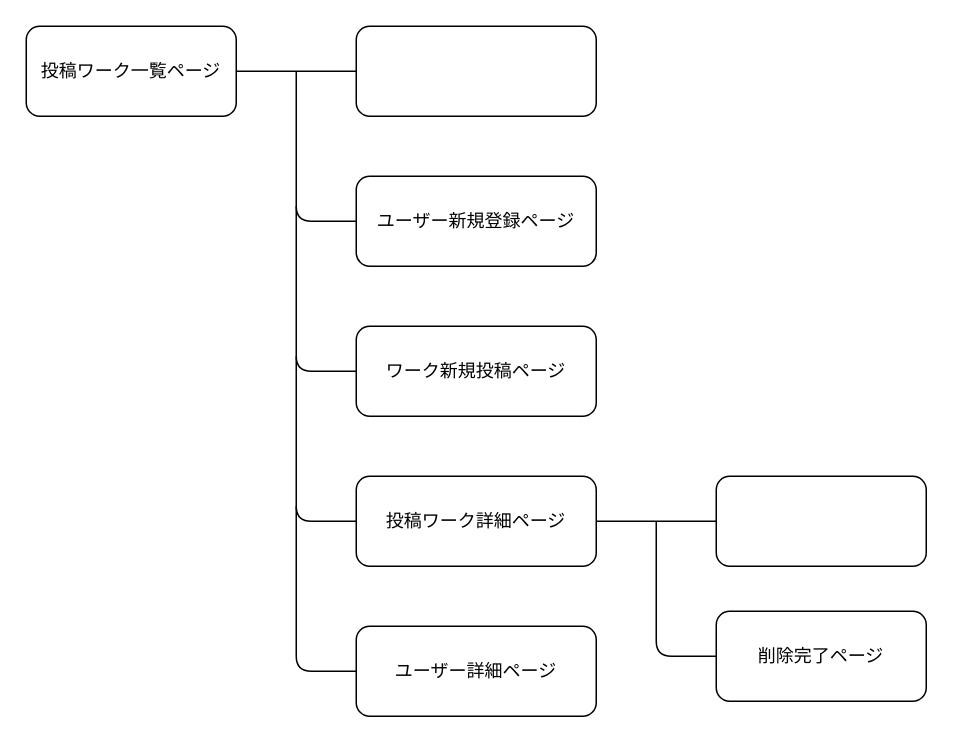
The diagram is 953 pixels wide and 743 high, and some of its shapes have lost their labels. Here are the shapes that lost their labels. From the top down, the centre of each, then its label:
the point at 475,70: ユーザーログインページ
the point at 820,520: 編集ページ
